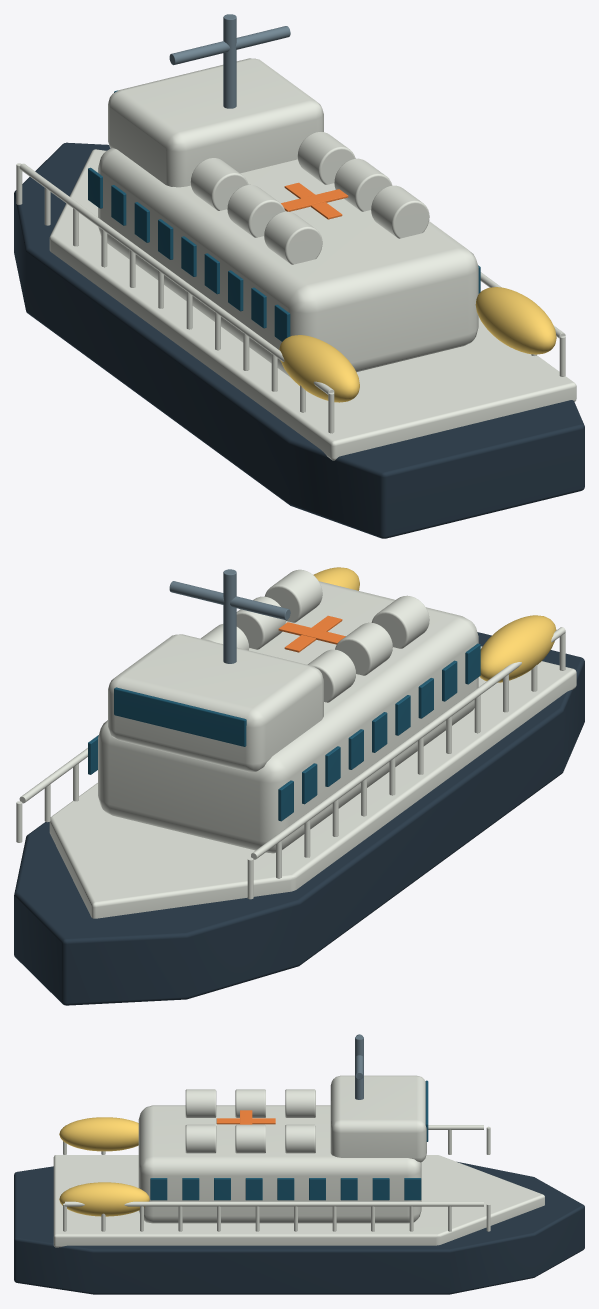
Rendered from RescueFerry.fbx.
3 views of the same model, one above another, from view 1: azimuth 30°, elevation 25°; view 2: azimuth 150°, elevation 25°; view 3: azimuth 270°, elevation 25° (orthographic). The views are drawn at different scales.
Parts seen in each view (by area): view 1: Displacement hull, Passenger cabin, Walkaround deck, Bridge upper, Inflatable lifeboat.001, Inflatable lifeboat, Upper handrail, Life raft canister.003, Life raft canister, Life raft canister.001, Life raft canister.005, Life raft canister.002 (+4 smaller); view 2: Displacement hull, Passenger cabin, Walkaround deck, Bridge upper, Bridge windshield, Inflatable lifeboat, Upper handrail, Life raft canister, Life raft canister.001, Life raft canister.003, Life raft canister.002, Radar crossbar (+6 smaller); view 3: Displacement hull, Passenger cabin, Walkaround deck, Bridge upper, Inflatable lifeboat, Inflatable lifeboat.001, Upper handrail.001, Life raft canister.003, Life raft canister.004, Life raft canister.005, Life raft canister, Life raft canister.002 (+11 smaller).
Boxes of the visible parts, x1,y1,x2,y2 form: Displacement hull: (14,142,584,538); Passenger cabin: (98,148,478,377); Walkaround deck: (49,149,576,460); Bridge upper: (108,58,323,187); Inflatable lifeboat.001: (475,287,556,354); Inflatable lifeboat: (279,335,359,402); Upper handrail: (19,163,334,394); Life raft canister.003: (371,185,429,238); Life raft canister: (264,211,322,264); Life raft canister.001: (227,184,285,237); Life raft canister.005: (297,131,355,184); Life raft canister.002: (190,158,248,210); Displacement hull: (14,632,584,1005); Passenger cabin: (98,581,478,853); Walkaround deck: (49,646,576,918); Bridge upper: (108,634,323,772); Bridge windshield: (114,687,246,746); Inflatable lifeboat: (479,615,556,682); Upper handrail: (251,627,565,859); Life raft canister: (371,595,429,648); Life raft canister.001: (335,622,392,675); Life raft canister.003: (264,569,322,622); Life raft canister.002: (307,649,355,702); Radar crossbar: (169,581,290,620); Displacement hull: (14,1162,584,1294); Passenger cabin: (138,1105,421,1223); Walkaround deck: (53,1155,544,1247); Bridge upper: (330,1075,426,1162); Inflatable lifeboat: (59,1117,138,1151); Inflatable lifeboat.001: (59,1182,149,1216); Upper handrail.001: (65,1201,483,1206); Life raft canister.003: (185,1124,216,1153); Life raft canister.004: (235,1124,265,1153); Life raft canister.005: (285,1124,315,1153); Life raft canister: (185,1089,216,1117); Life raft canister.002: (285,1089,315,1117).
Size of the model in its own units: 190 by 207 by 504.
